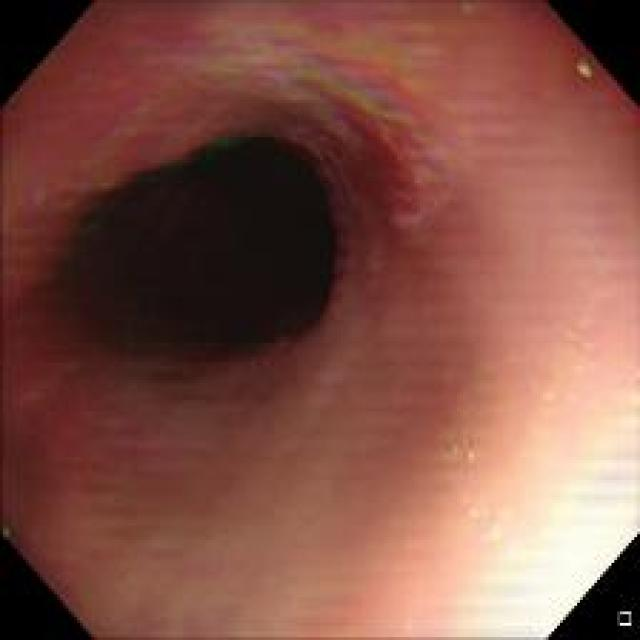color misalignment: (151, 28, 455, 206), (565, 48, 604, 86), (454, 1, 481, 25)
contrast: (46, 120, 345, 361)
saturation: (450, 456, 625, 636)
